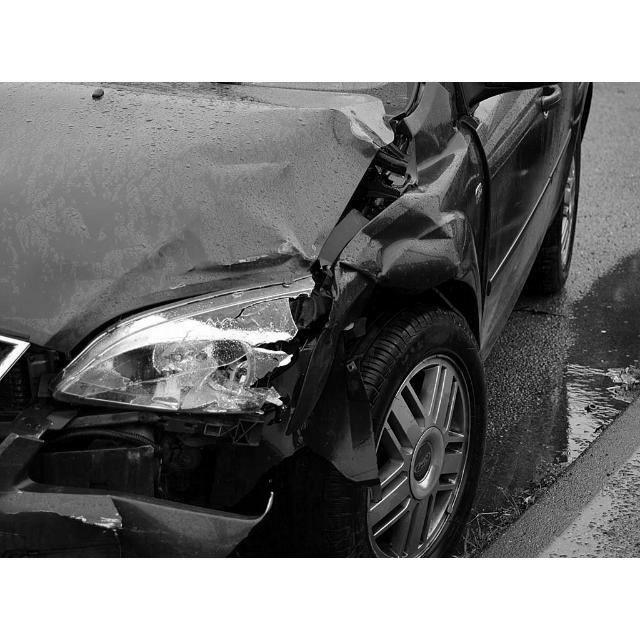Headlight-damage: (36, 275, 341, 468)
bonnet-dent: (1, 83, 364, 304)
fender-dent: (346, 136, 511, 357)
